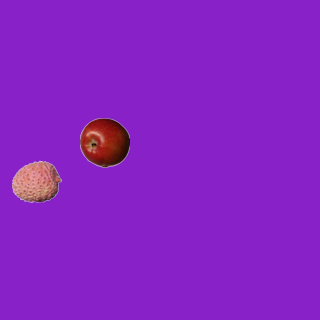Apple Braeburn: (79, 117, 129, 167)
Lychee: (11, 156, 61, 206)
